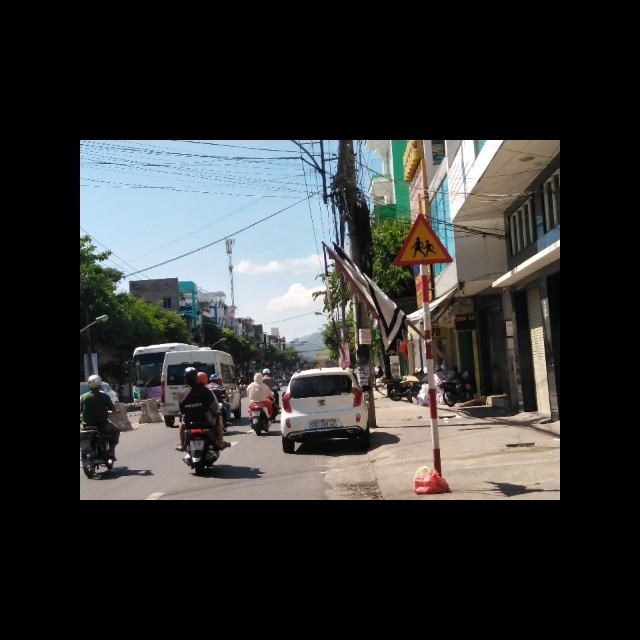Trẻ em ngang qua: (392, 212, 456, 266)
